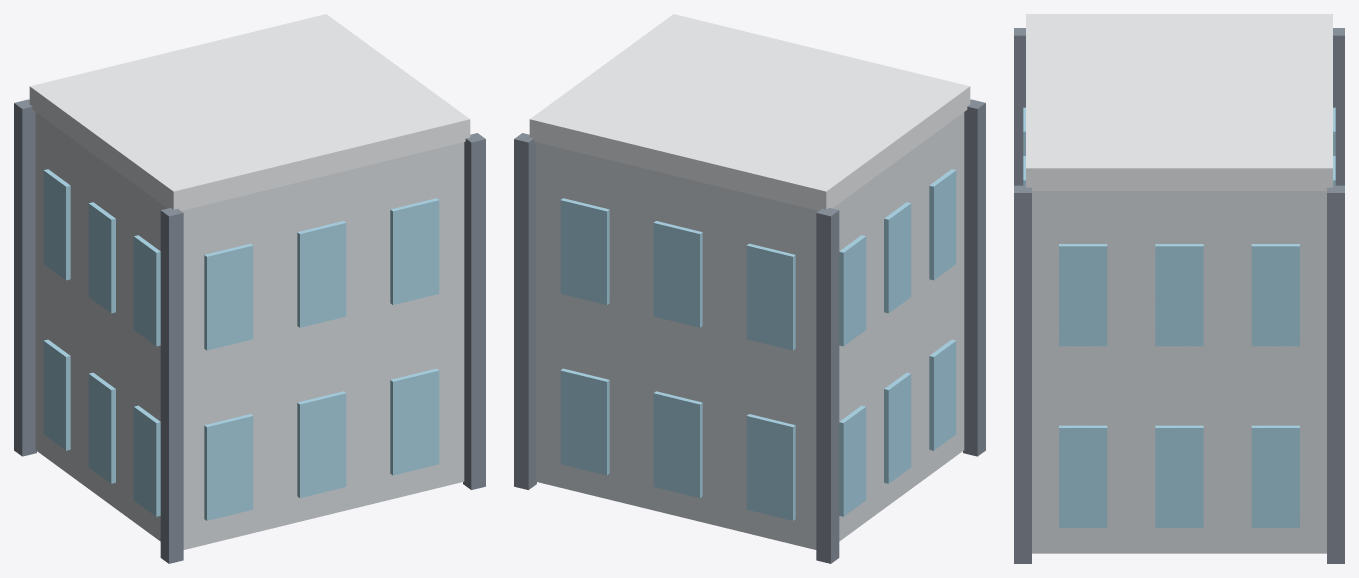
File: shop_b.glb
The picture shows the model from 3 angles, left to right: view 1: azimuth 30°, elevation 25°; view 2: azimuth 150°, elevation 25°; view 3: azimuth 270°, elevation 25°; orthographic projection. The views are drawn at different scales.
Bounding box in the file's own units: 5.45 × 6.01 × 4.62.
